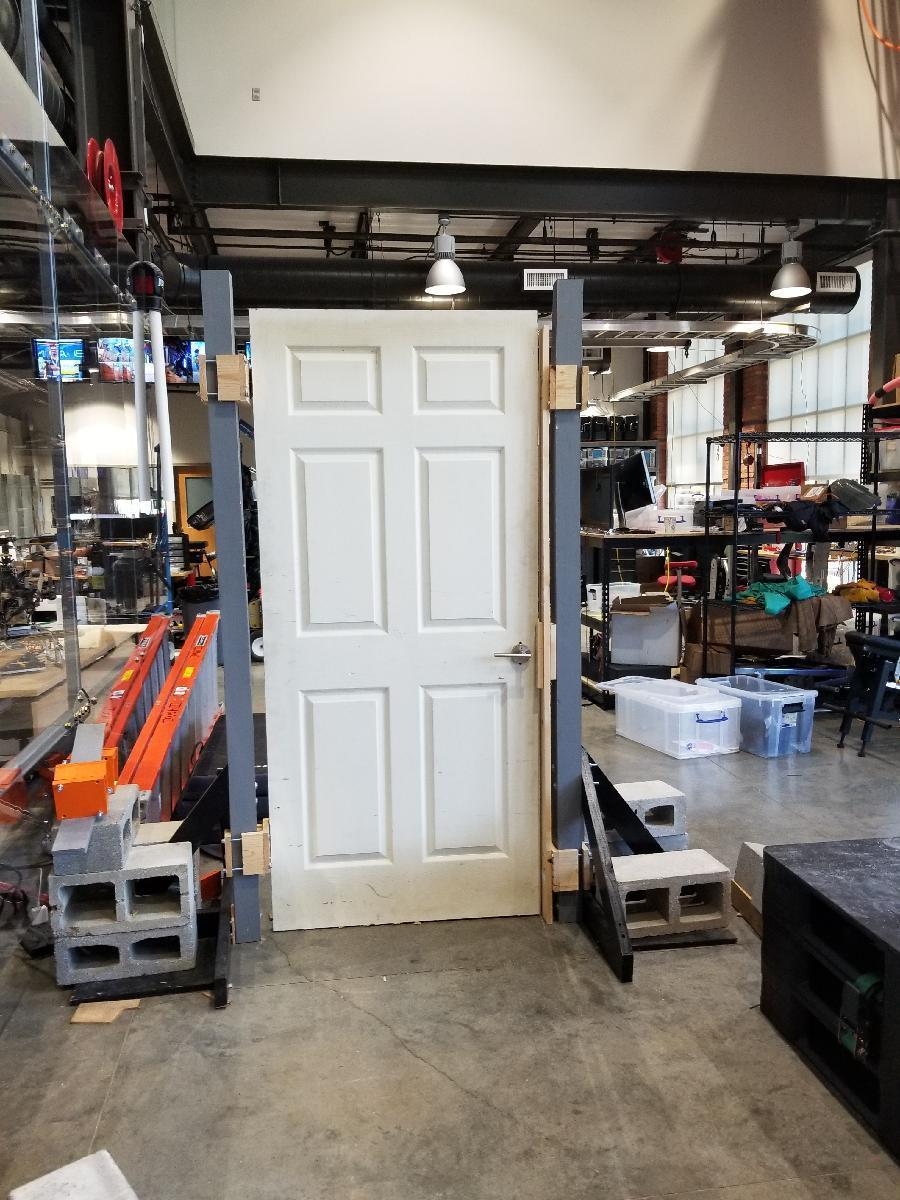door: (250, 305, 544, 924)
handle: (490, 638, 536, 677)
